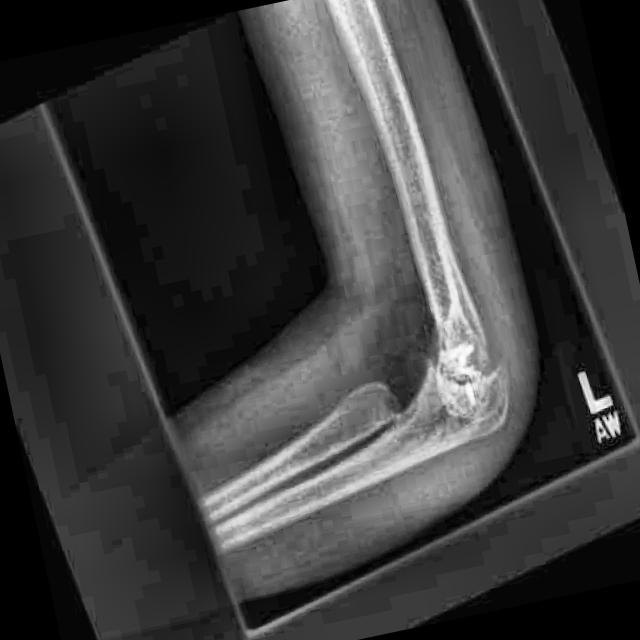elbow positive: (431, 308, 530, 436)
